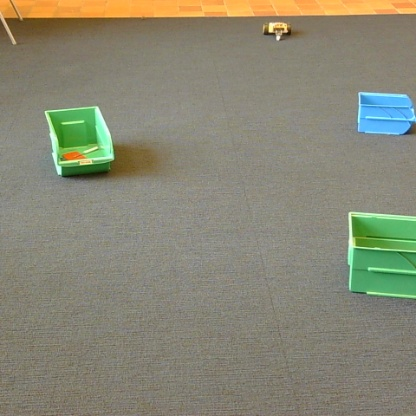robot: (263, 23, 291, 40)
